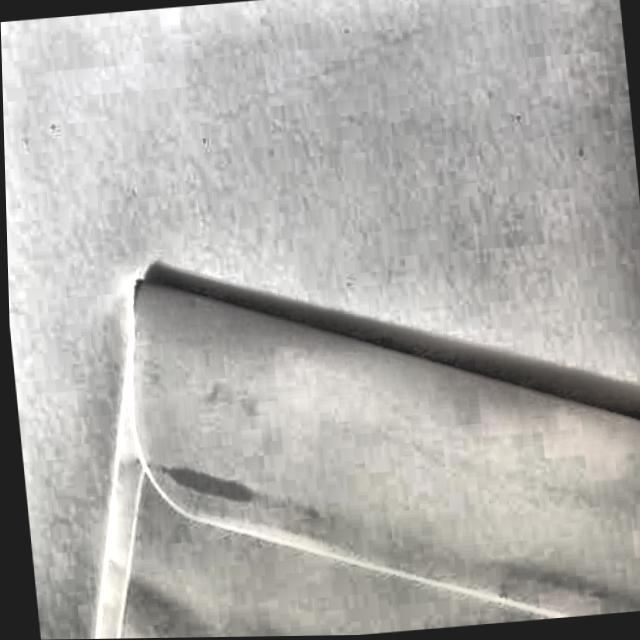Paper: (50, 222, 640, 639)
